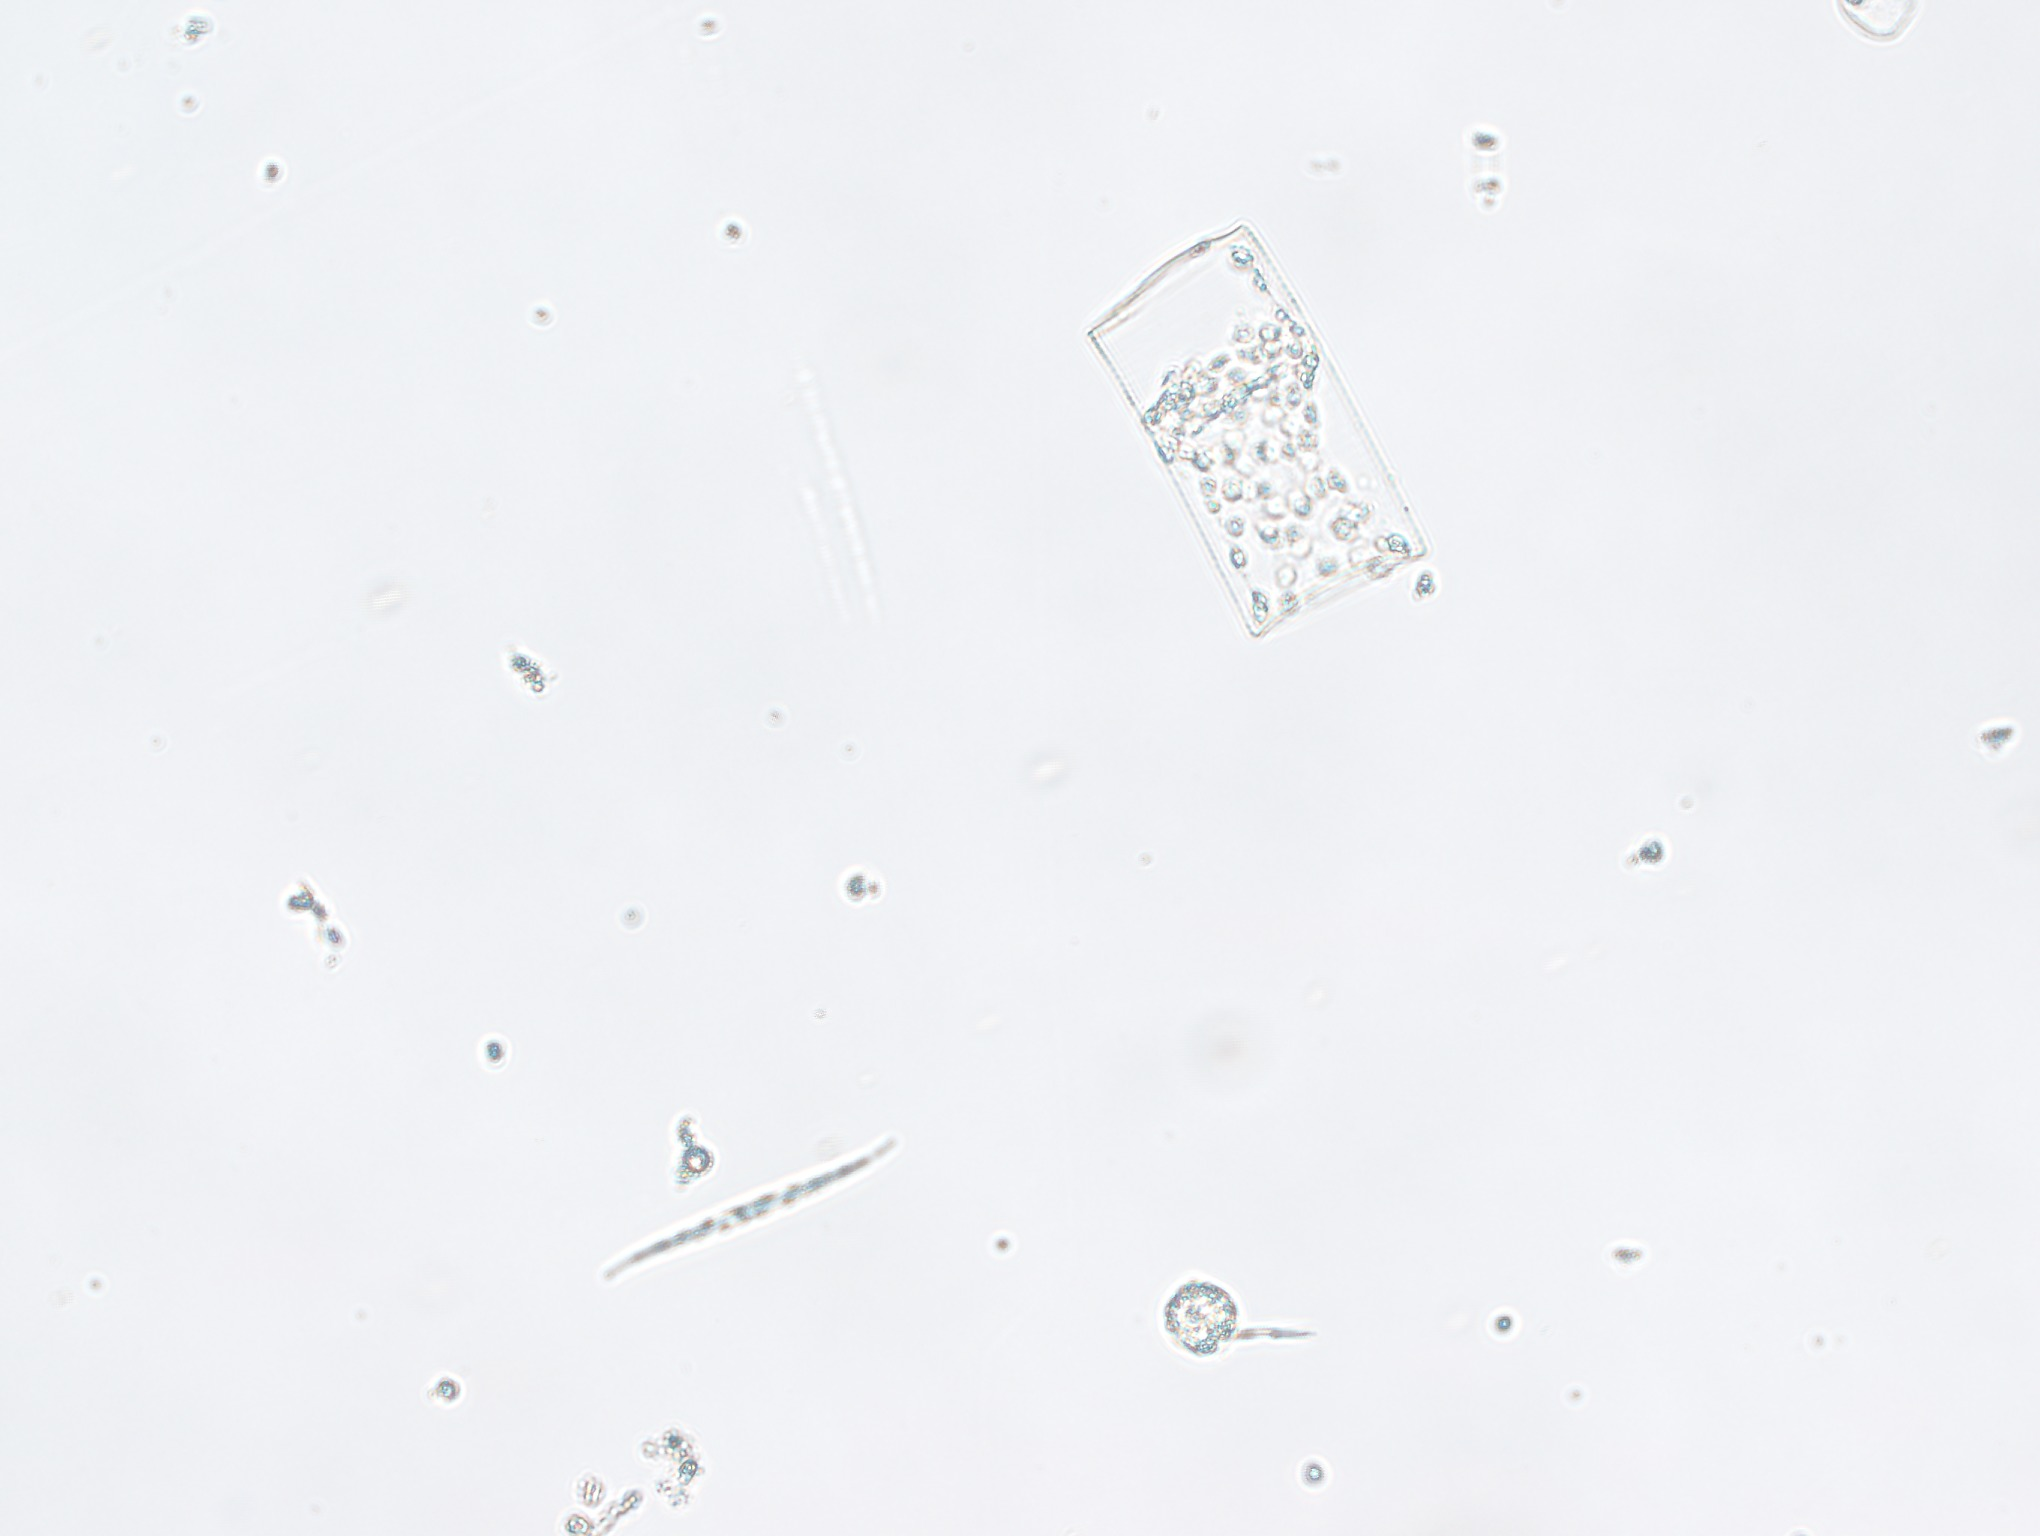guinardia flaccida: (1056, 192, 1456, 645)
pleurosigma pelagicum: (579, 1128, 927, 1288)
